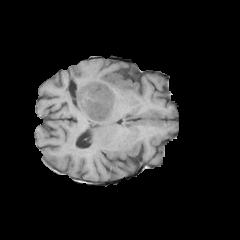glioma: (63, 67, 138, 122)
